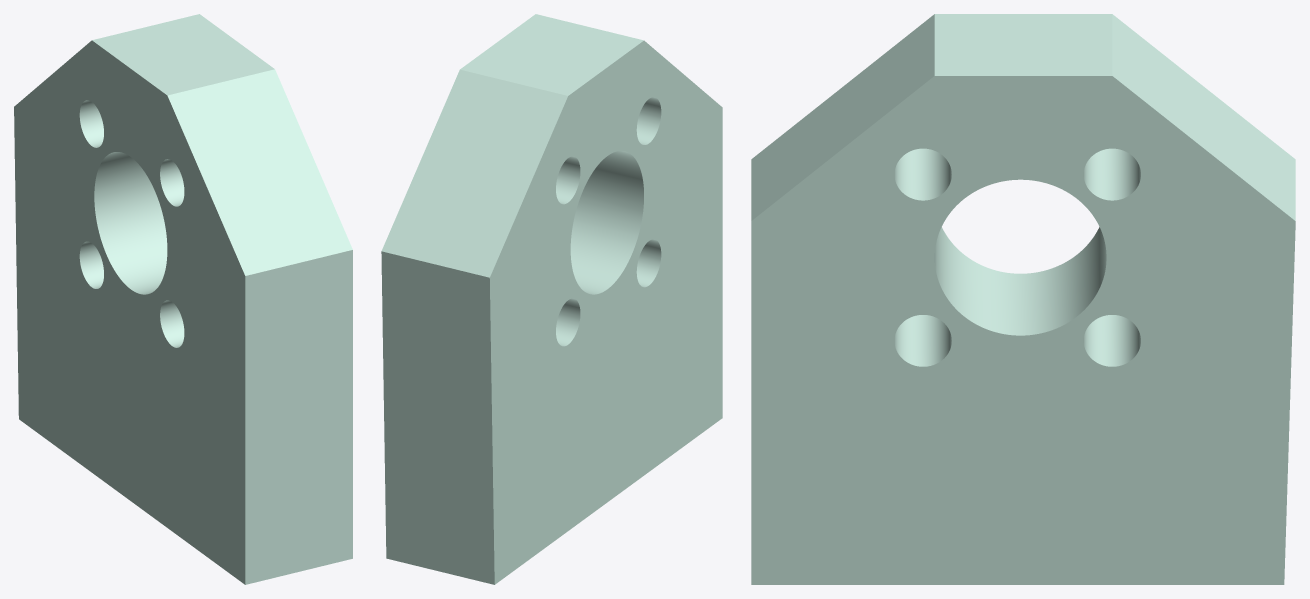
3 views of the same model, side by side, from view 1: azimuth 30°, elevation 25°; view 2: azimuth 150°, elevation 25°; view 3: azimuth 270°, elevation 25° (orthographic). The views are drawn at different scales.
Parts seen in each view (by area): view 1: Renderer Node; view 2: Renderer Node; view 3: Renderer Node.
Part boxes in pixels (left/top/right/bottom): Renderer Node: left=14, top=14, right=352, bottom=584; Renderer Node: left=381, top=14, right=722, bottom=584; Renderer Node: left=751, top=14, right=1295, bottom=584.
Bounding box in the file's own units: 0.1953 × 0.7495 × 0.7266.
